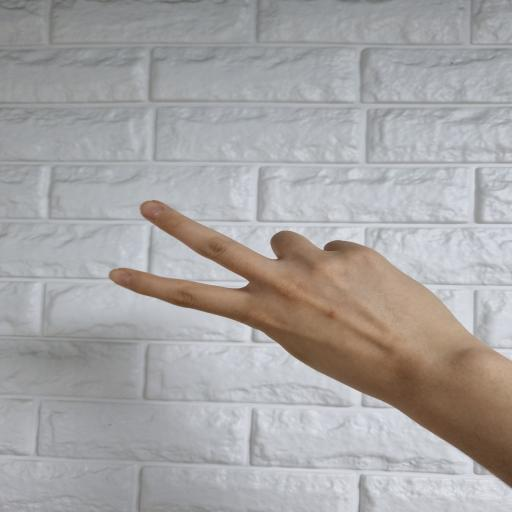Scissors: (108, 200, 512, 488)
